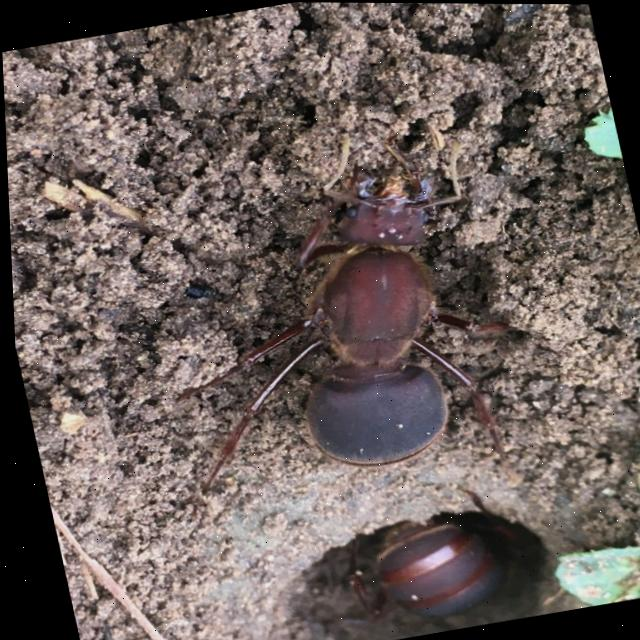Alive-Female-Dealate: (118, 106, 547, 518)
